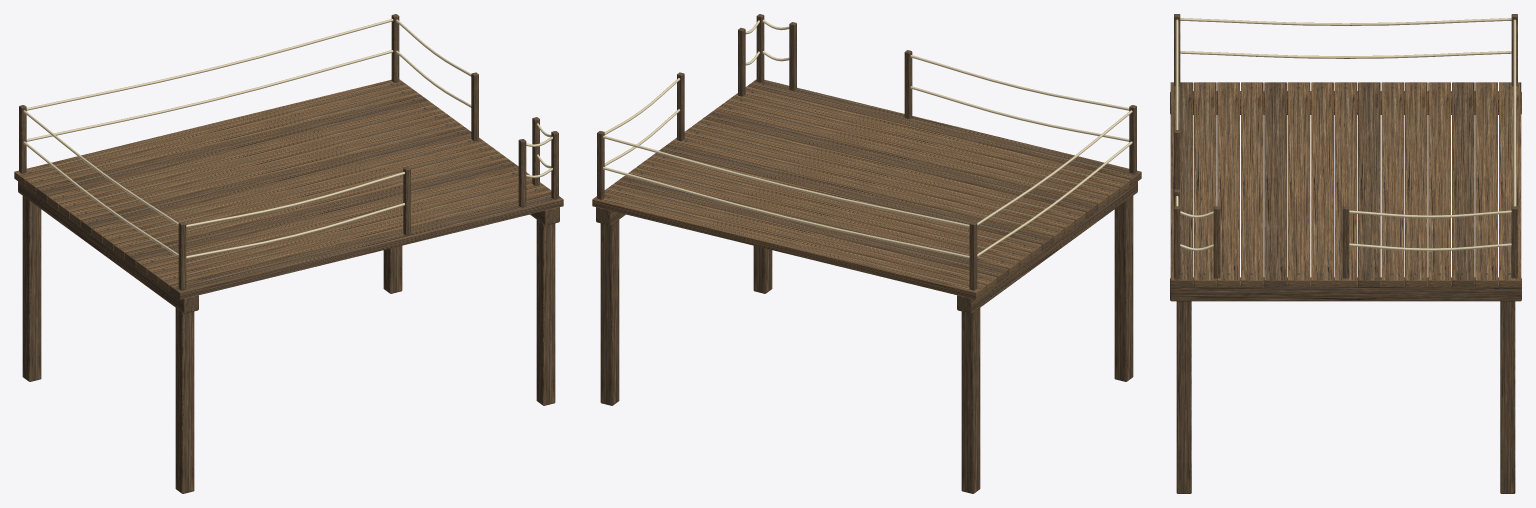
File: landing_connected.glb
3 views of the same model, side by side, from view 1: azimuth 30°, elevation 25°; view 2: azimuth 150°, elevation 25°; view 3: azimuth 270°, elevation 25° (orthographic). The views are drawn at different scales.
Visible parts, largest first — view 1: landing_connected_mesh; view 2: landing_connected_mesh; view 3: landing_connected_mesh.
Boxes of the visible parts, x1,y1,x2,y2 form: landing_connected_mesh: [14, 14, 563, 493]; landing_connected_mesh: [592, 14, 1141, 493]; landing_connected_mesh: [1170, 14, 1521, 493].
Bounding box in the file's own units: 4 × 2.7 × 3.
4 materials, 2 textured.
